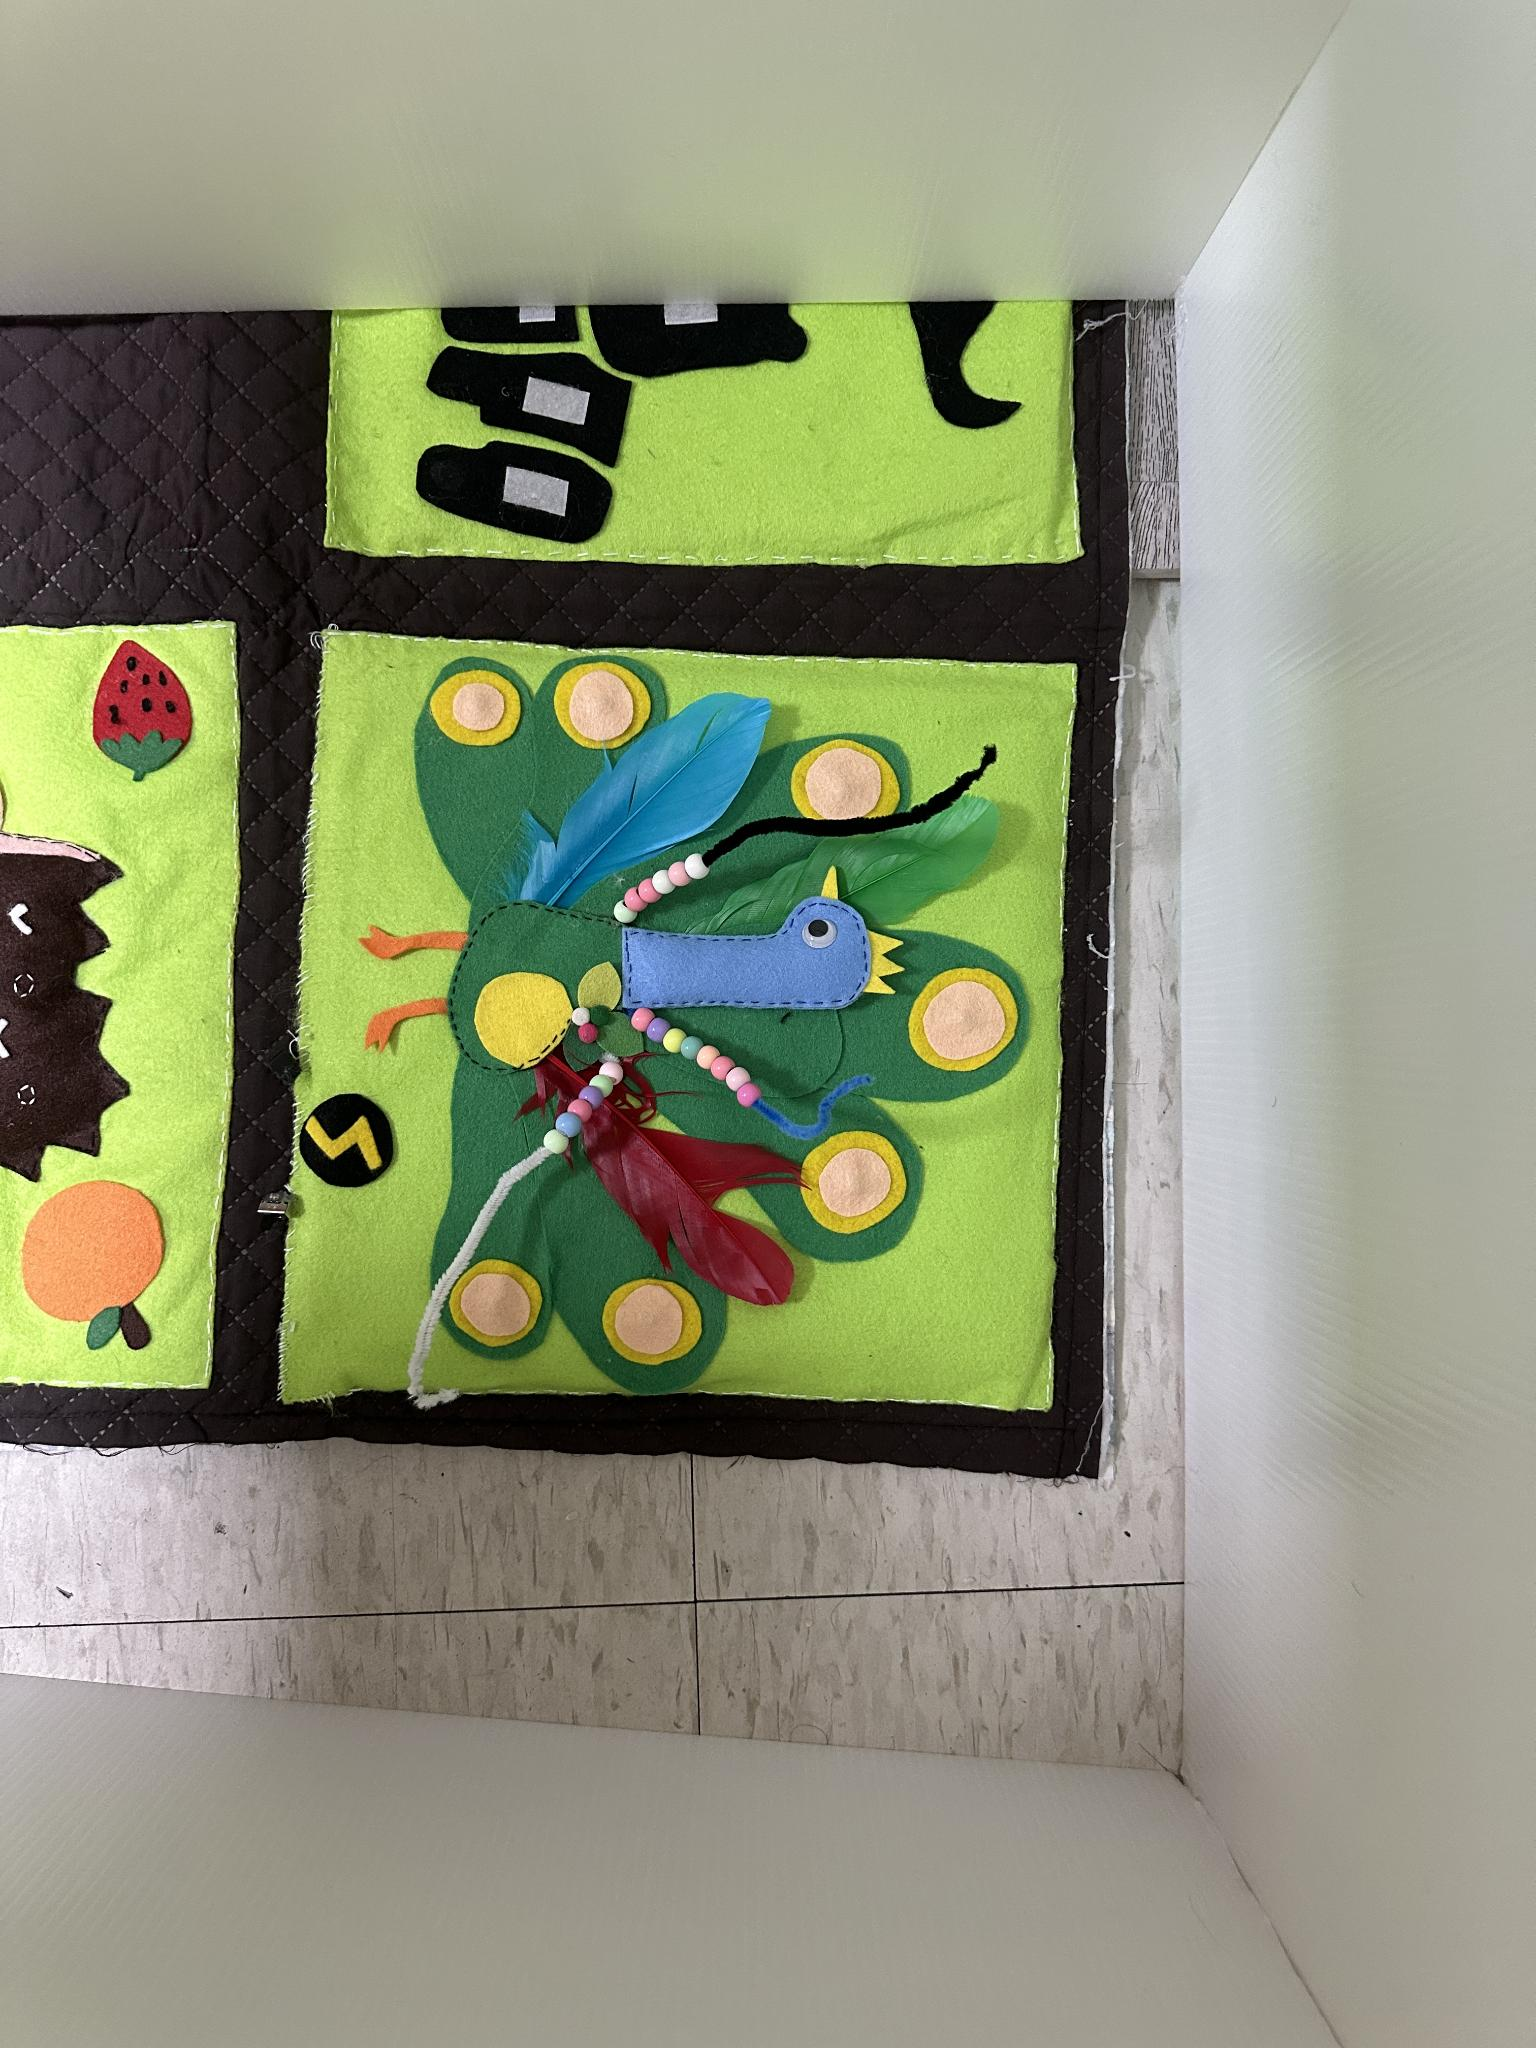bead: (566, 1095, 594, 1121), (684, 853, 710, 879), (736, 1077, 760, 1105), (726, 1063, 749, 1090), (631, 1008, 655, 1032), (542, 1132, 571, 1151), (623, 889, 649, 910), (611, 905, 639, 924), (695, 1043, 718, 1066), (710, 1055, 733, 1077), (557, 1114, 582, 1134), (668, 861, 687, 887), (579, 1085, 602, 1106), (592, 1074, 615, 1095), (647, 1016, 668, 1039), (662, 1027, 682, 1050), (639, 879, 660, 901), (653, 871, 674, 893), (600, 1064, 623, 1084), (682, 1039, 703, 1058)
